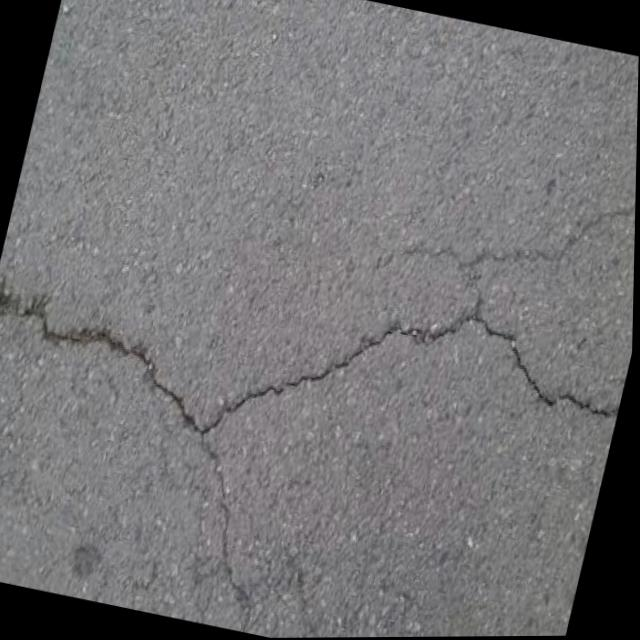Crack: (0, 205, 636, 540), (374, 132, 638, 330), (169, 461, 316, 639)
